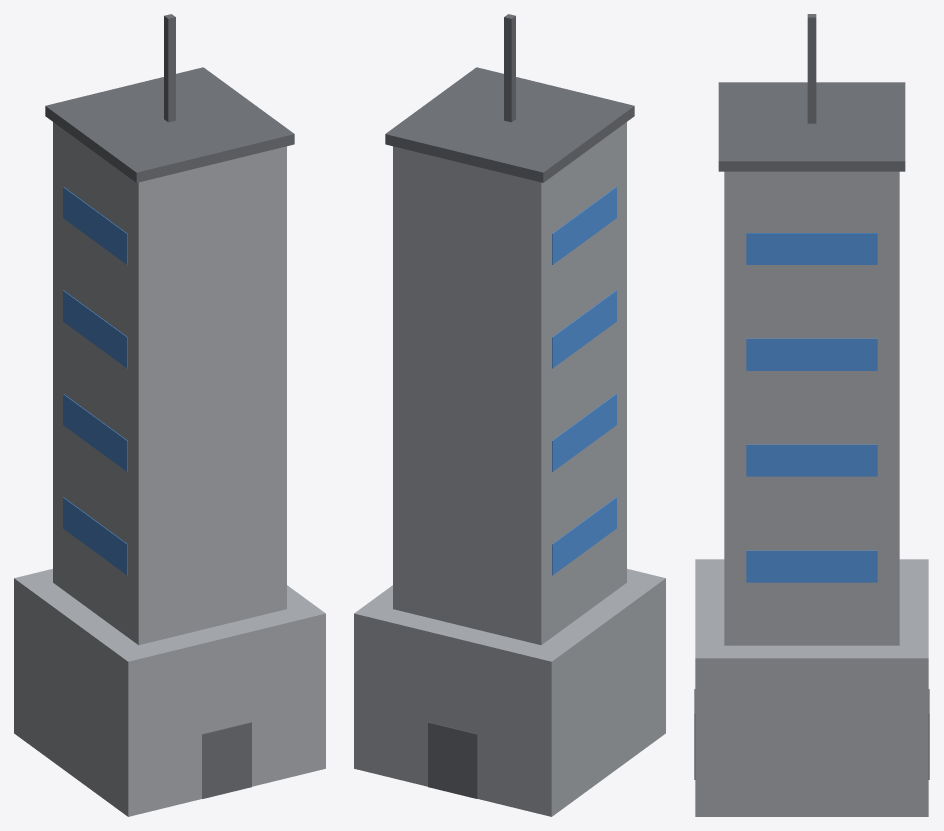
File: Building_Tall_01.fbx
The picture shows the model from 3 angles, left to right: view 1: azimuth 30°, elevation 25°; view 2: azimuth 150°, elevation 25°; view 3: azimuth 270°, elevation 25°; orthographic projection. The views are drawn at different scales.
Visible parts, largest first — view 1: Tower, Base, Roof, Door, Windows_0, Windows_1, Windows_2, Windows_3, Antenna; view 2: Tower, Base, Roof, Door, Windows_0, Windows_1, Windows_2, Windows_3, Antenna; view 3: Tower, Base, Roof, Windows_0, Windows_1, Windows_2, Windows_3, Antenna.
Boxes of the visible parts, box(x1,y1,x2,y2) form: Tower: box(53, 122, 286, 645); Base: box(14, 569, 325, 816); Roof: box(45, 67, 294, 182); Door: box(202, 722, 251, 798); Windows_0: box(63, 497, 127, 575); Windows_1: box(63, 394, 127, 471); Windows_2: box(63, 290, 127, 368); Windows_3: box(63, 187, 127, 264); Antenna: box(164, 14, 175, 122); Tower: box(393, 122, 626, 645); Base: box(354, 569, 665, 816); Roof: box(385, 67, 634, 182); Door: box(428, 722, 477, 798); Windows_0: box(552, 497, 616, 575); Windows_1: box(552, 394, 616, 471); Windows_2: box(552, 290, 616, 368); Windows_3: box(552, 187, 616, 264); Antenna: box(504, 14, 515, 122); Tower: box(724, 171, 899, 645); Base: box(695, 559, 928, 816); Roof: box(718, 82, 905, 171); Windows_0: box(746, 550, 877, 582); Windows_1: box(746, 444, 877, 476); Windows_2: box(746, 338, 877, 370); Windows_3: box(746, 233, 877, 264); Antenna: box(807, 14, 816, 123).
Bounding box in the file's own units: 8 × 28.4 × 8.05.
